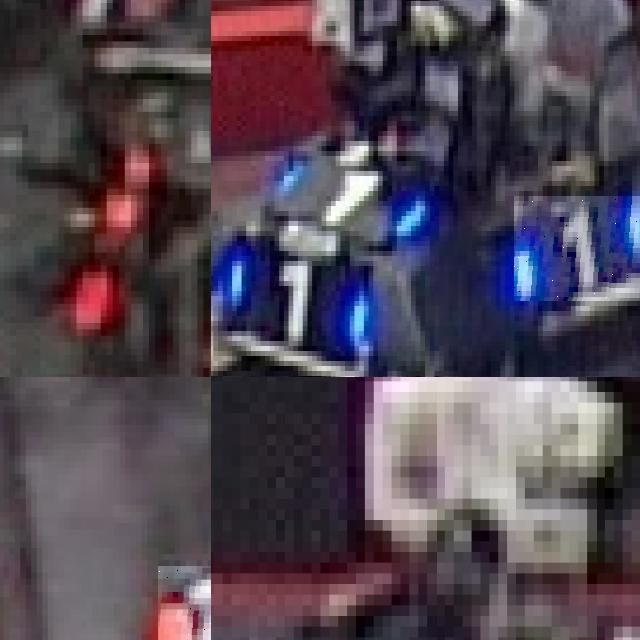B1: (223, 251, 373, 346), (514, 196, 640, 301), (274, 161, 430, 236)
R2: (158, 566, 211, 640)
